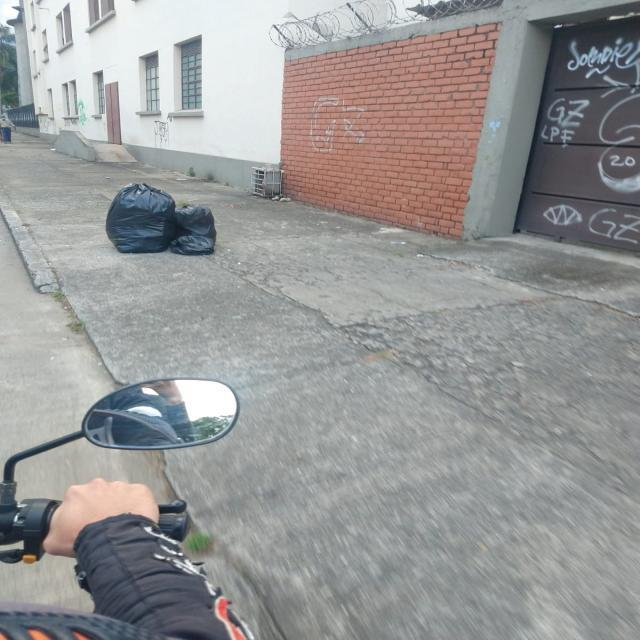Trashbag: (99, 180, 177, 258), (179, 191, 232, 254)
